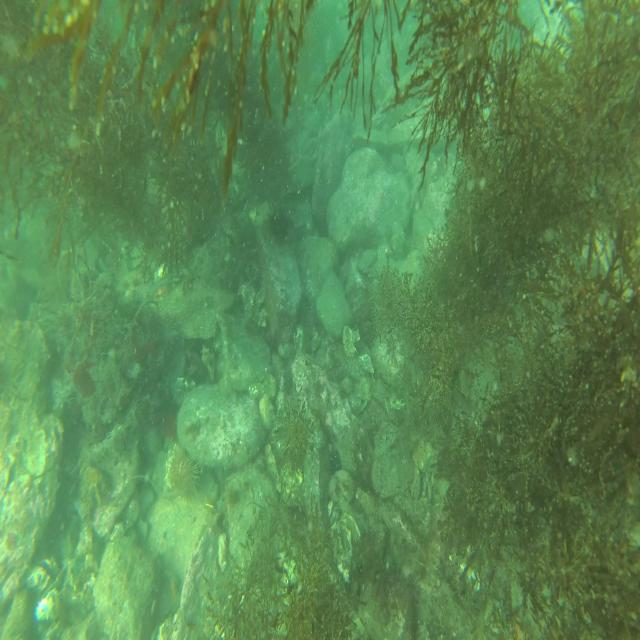echinus: (164, 443, 204, 502)
